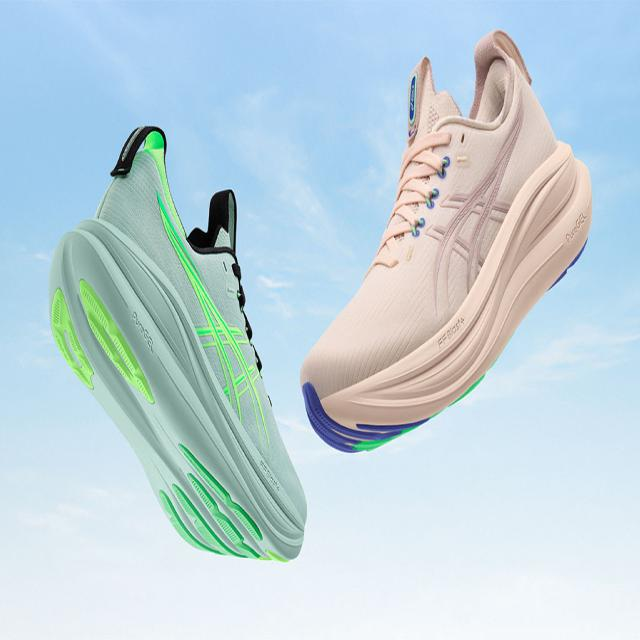asics logo: (142, 171, 282, 476), (414, 74, 538, 343)
